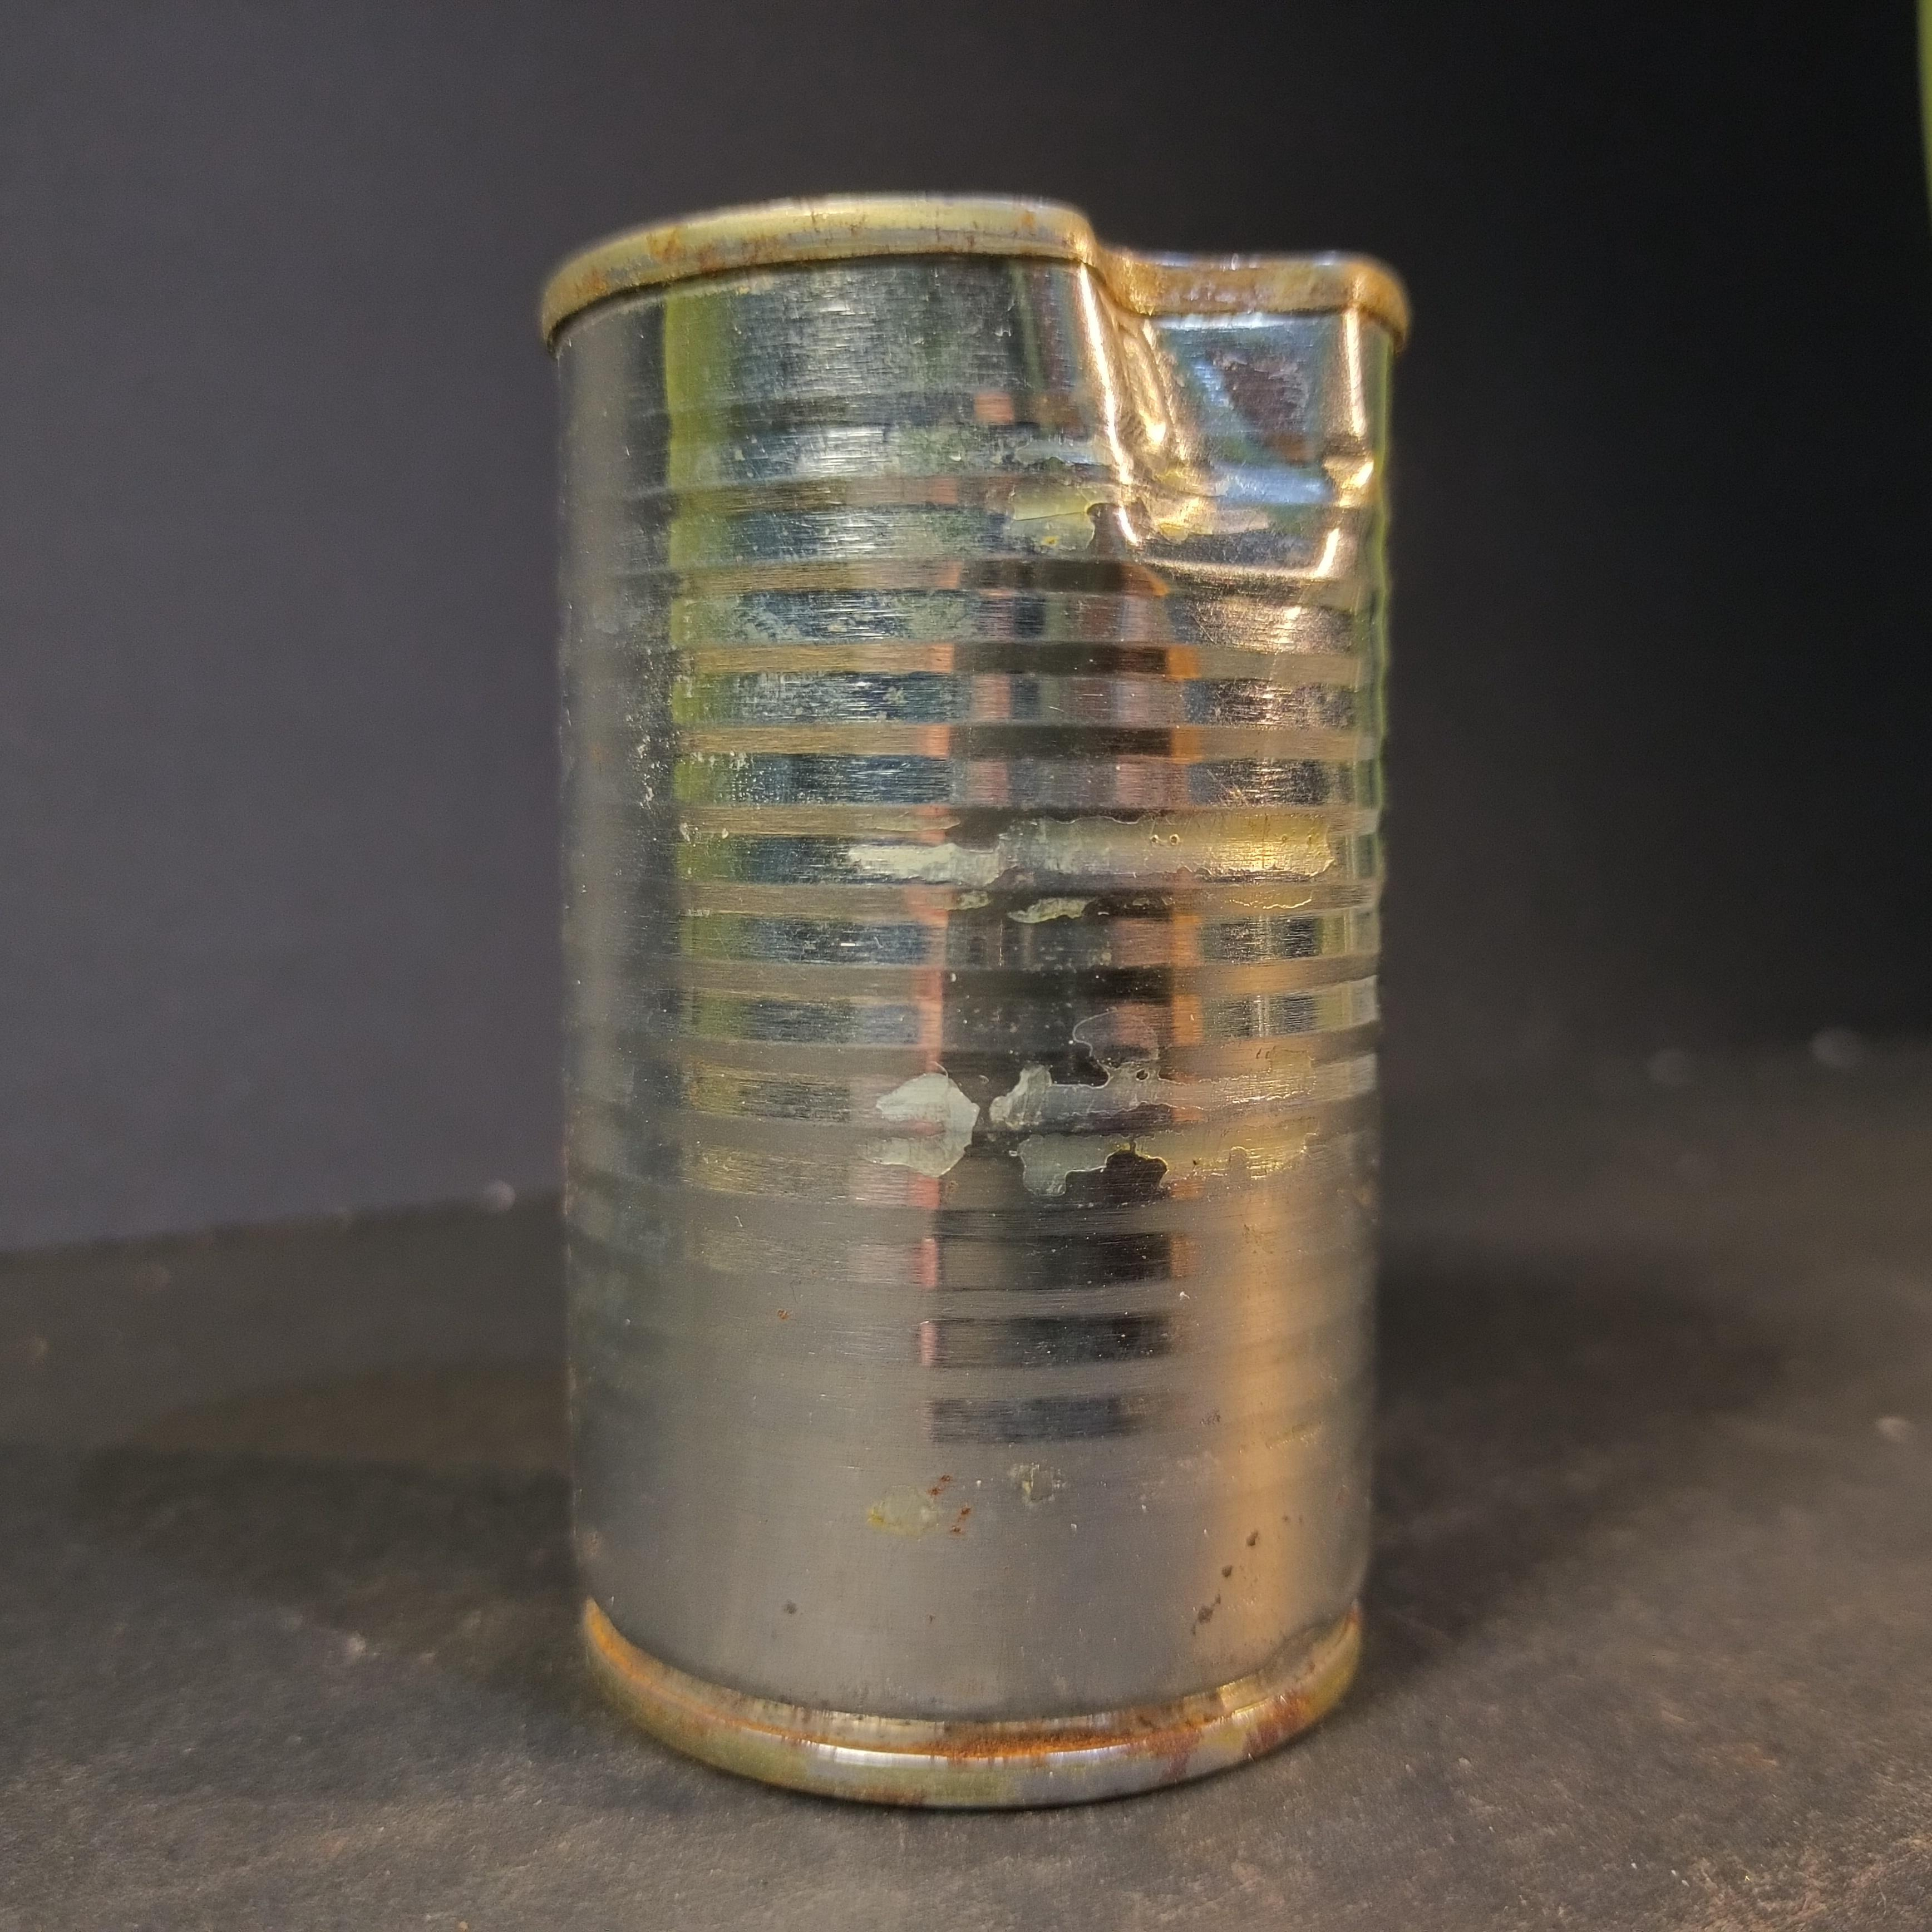Dented: (501, 165, 1430, 1819)
